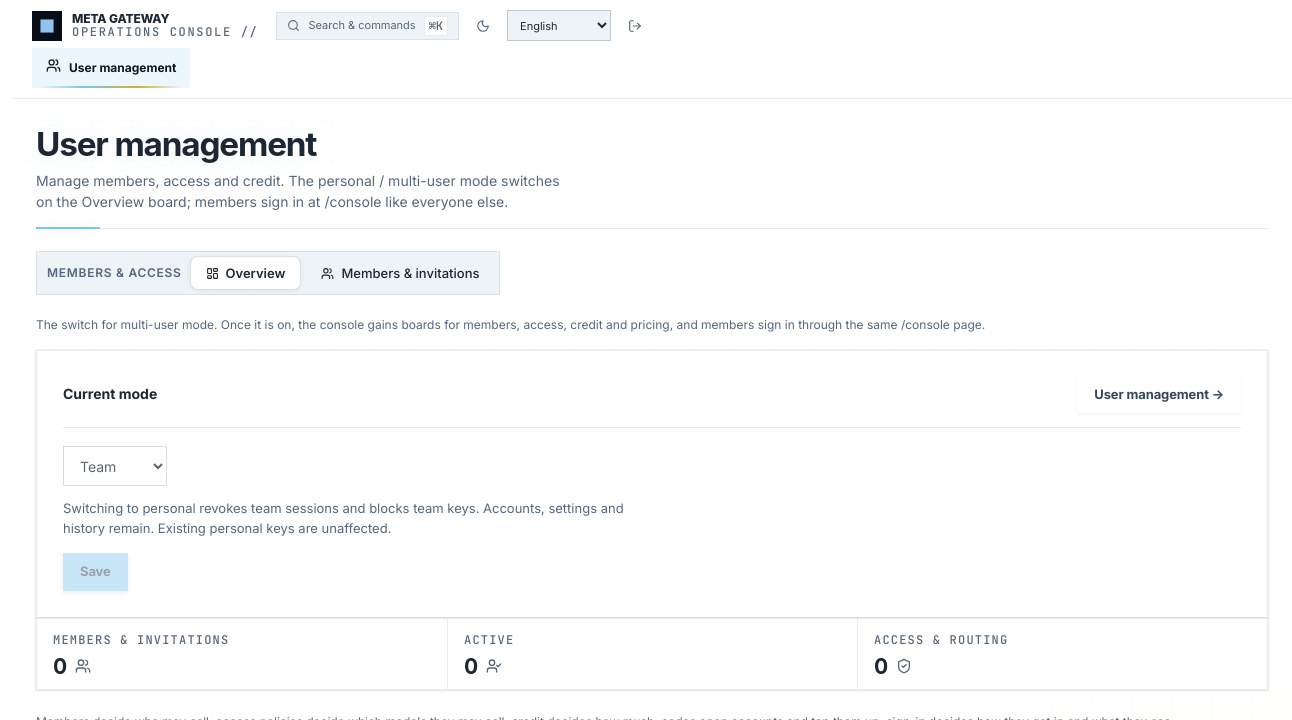
Test case: channel-first shell › restores a limited administrator inside the existing router without requesting gateway-only APIs
Expected: the heading "User management" is shown, [36,124,316,164]
Click the link "Members & invitations".
click(400, 273)  # box [321,265,480,281]
(page scrolled)
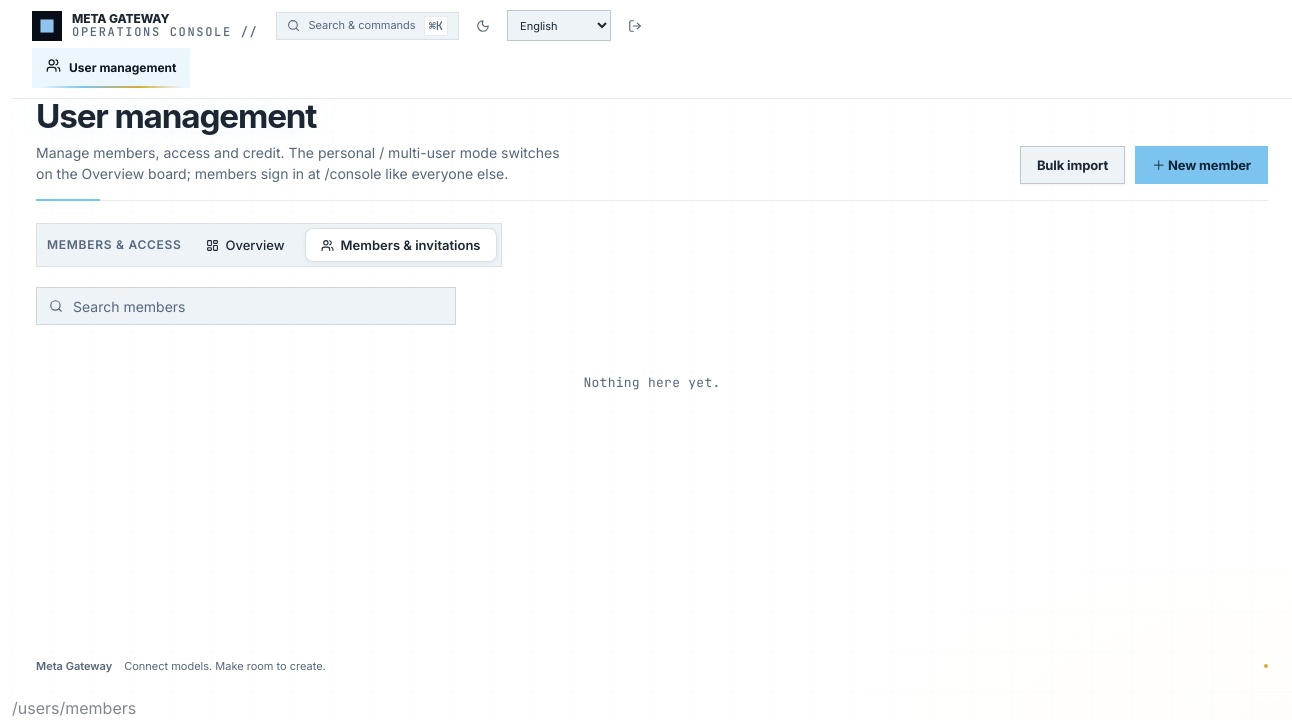
Result: the text with test id "location" reads "/users/members" at [12,698,136,718]
